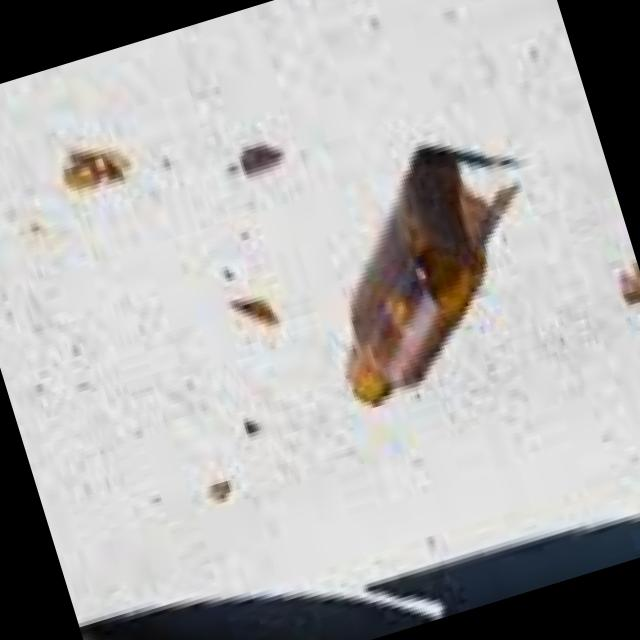PecahanKaca: (288, 123, 576, 420)
